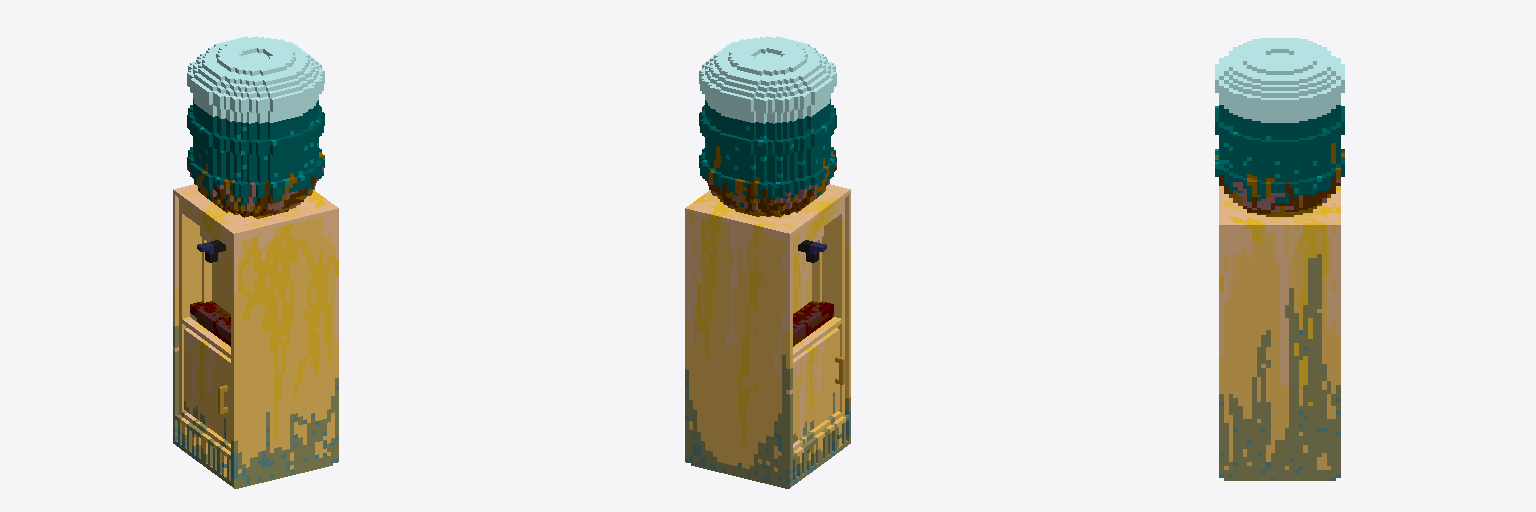
3 renders of one model, left to right at view 1: azimuth 30°, elevation 25°; view 2: azimuth 150°, elevation 25°; view 3: azimuth 270°, elevation 25°, orthographic.
Parts seen in each view (by area): view 1: object 1; view 2: object 1; view 3: object 1.
Boxes of the visible parts, box(x1,y1,x2,y2) form: object 1: box(173, 36, 338, 488); object 1: box(685, 36, 850, 488); object 1: box(1215, 38, 1344, 480).
Bounding box in the file's own units: 2.8 × 9.5 × 2.8.
Materials: 1 (1 with a texture image).